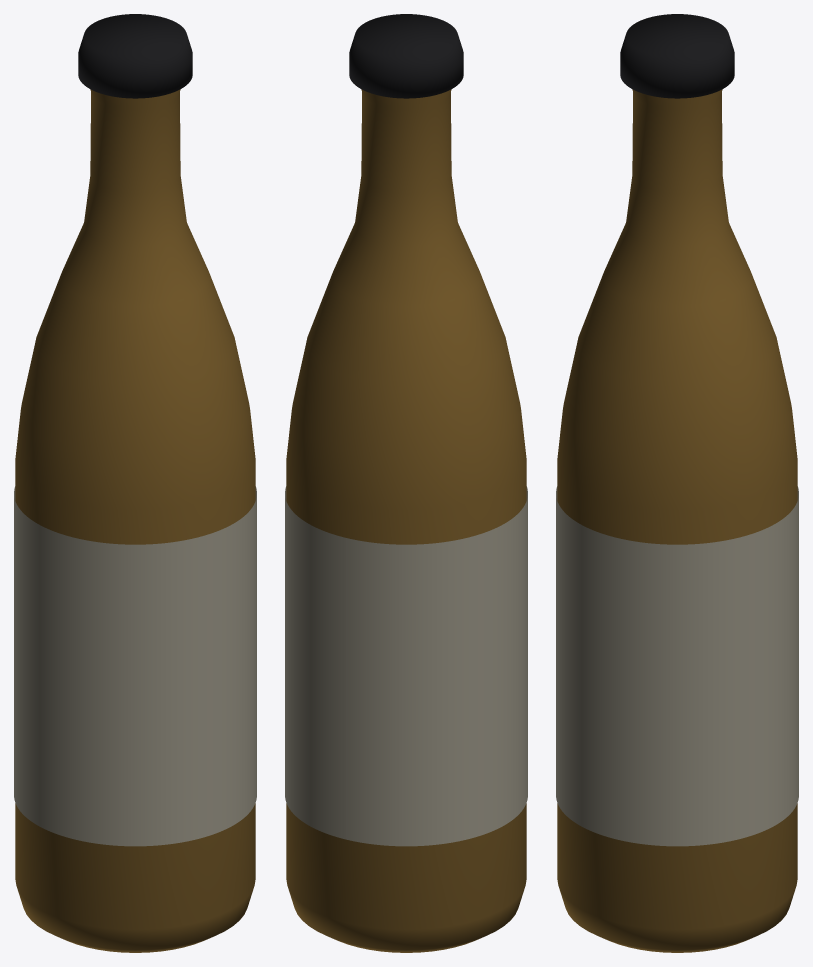
The model's file is beer_clearfilm_minimal.glb.
3 renders of one model, left to right at view 1: azimuth 30°, elevation 25°; view 2: azimuth 150°, elevation 25°; view 3: azimuth 270°, elevation 25°, orthographic.
Visible parts, largest first — view 1: Glass, Label_band, Cap; view 2: Glass, Label_band, Cap; view 3: Glass, Label_band, Cap.
Part boxes in pixels (x1,y1,x2,y2): Glass: (15,89,255,952); Label_band: (14,486,256,846); Cap: (78,14,192,98); Glass: (286,89,526,952); Label_band: (285,486,527,846); Cap: (349,14,463,98); Glass: (557,89,797,952); Label_band: (556,486,798,846); Cap: (620,14,734,98).
Bounding box in the file's own units: 0.0657 × 0.2615 × 0.0657.
